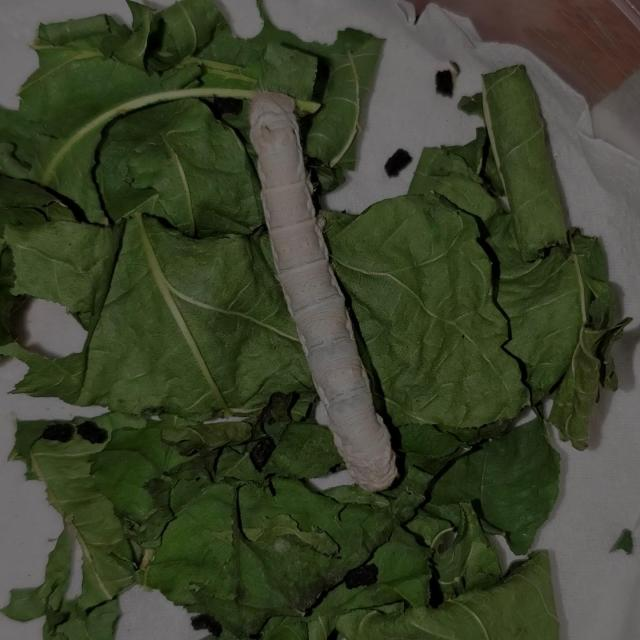Healthy: (239, 84, 409, 500)
